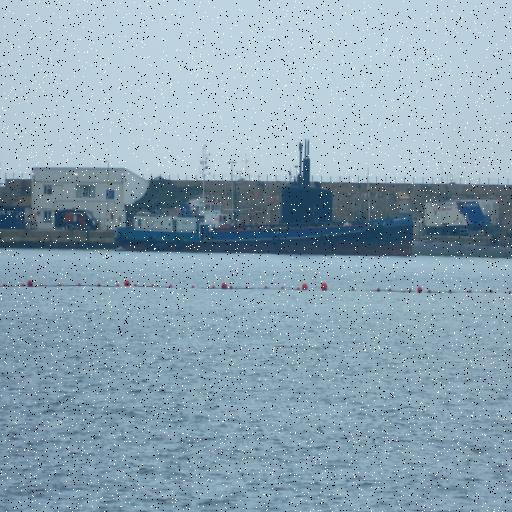submarine: (276, 133, 336, 226)
